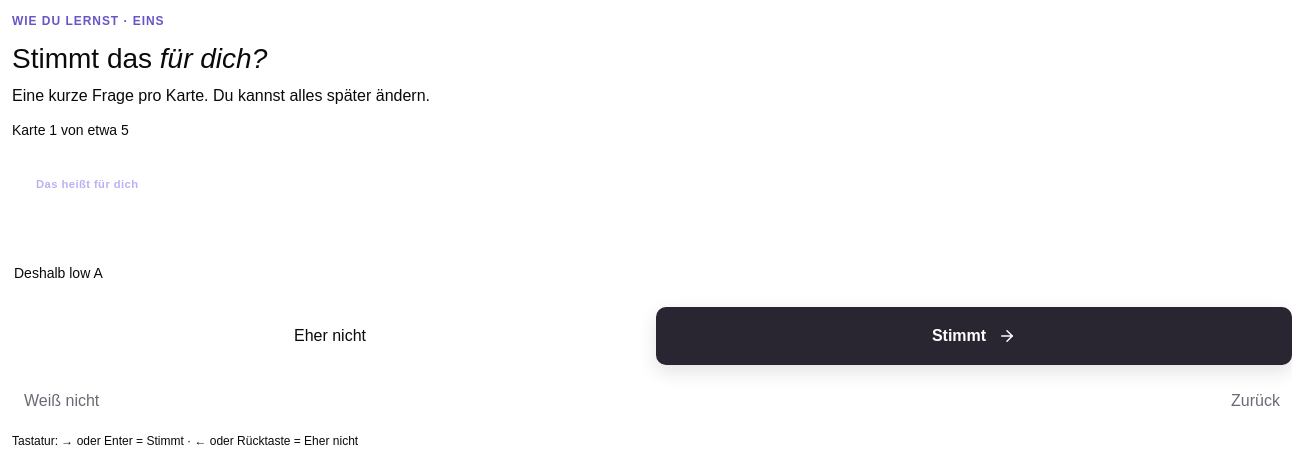
Test: DeckStep › Zurück undoes the last answer, including the band
The width and height of the screenshot is (1304, 462).
Click the button "Stimmt" at (974, 336), box left=656, top=307, right=1292, bottom=365
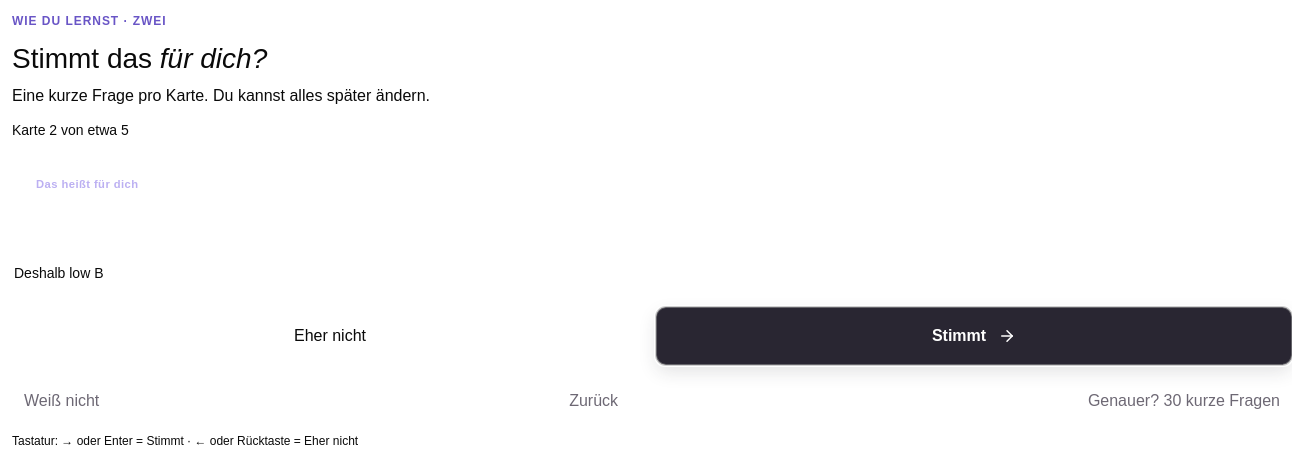
Click the button "Zurück" at (594, 401), box left=557, top=377, right=630, bottom=425
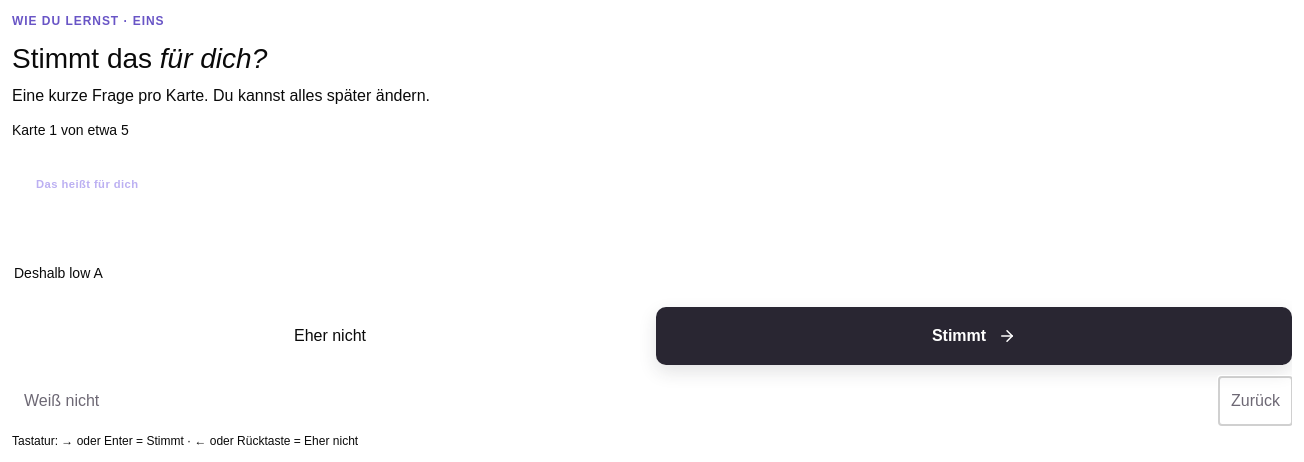
Click the button "Eher nicht" at (330, 336), box left=12, top=307, right=648, bottom=365
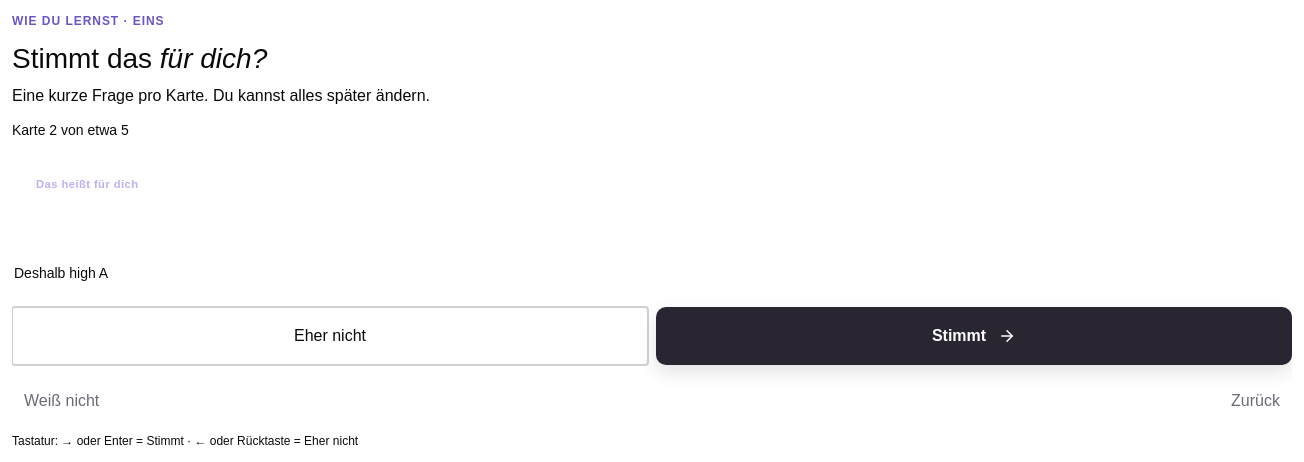
Now the text "Karte 2 von etwa 5" is shown, box left=12, top=120, right=129, bottom=140
Click the button "Zurück" at (1256, 401), box left=1219, top=377, right=1292, bottom=425
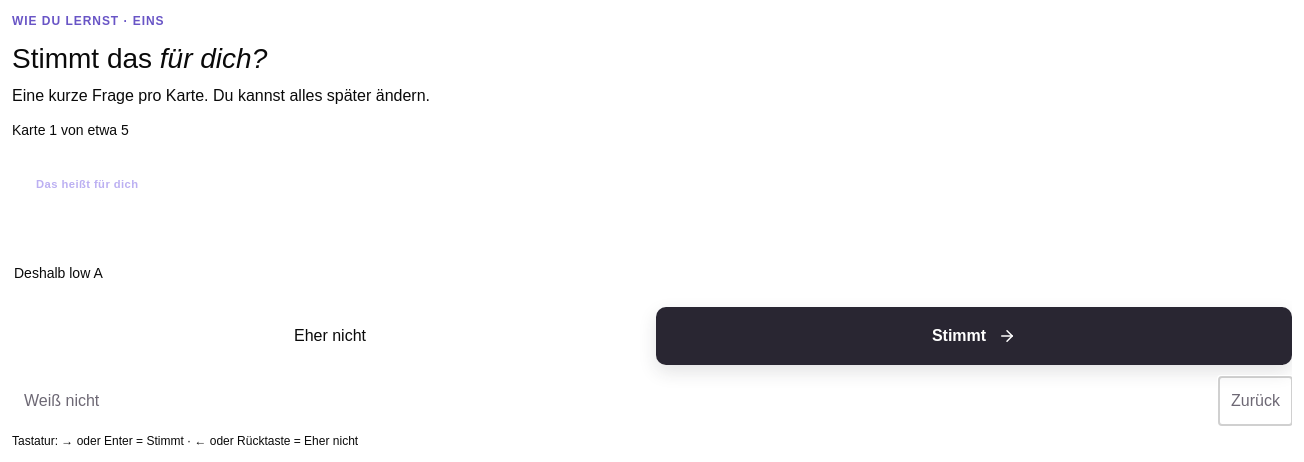
Now the text "Karte 1 von etwa 5" is shown, box left=12, top=120, right=129, bottom=140
